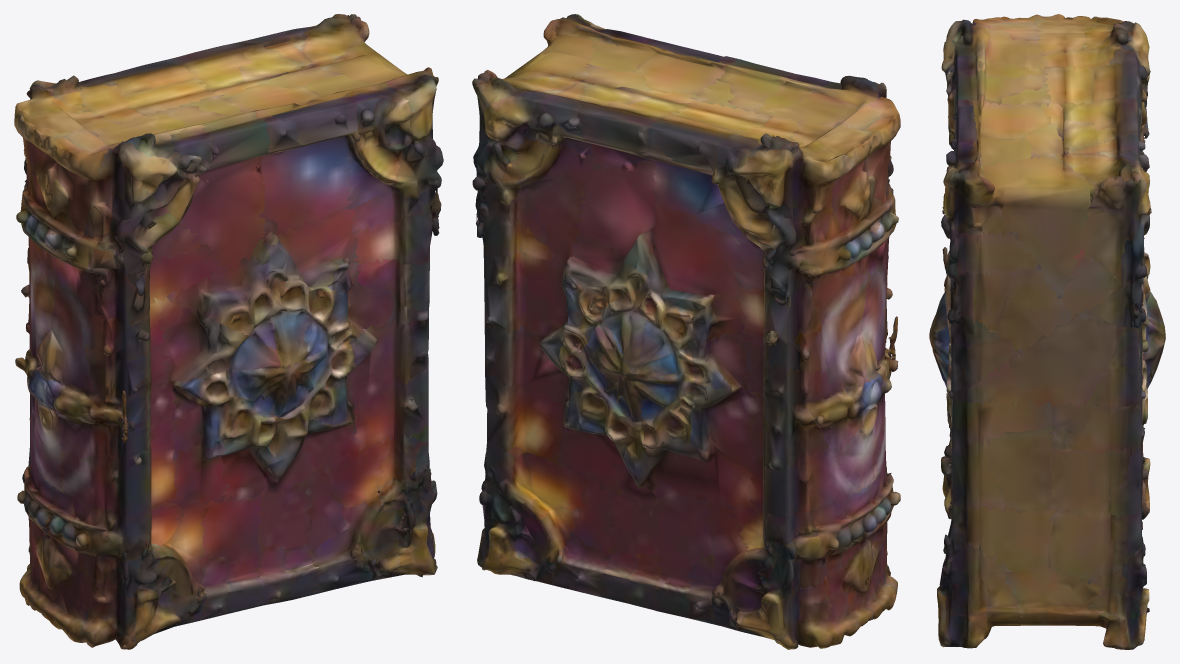
Rendered from enchanted-cosmos.glb.
3 views of the same model, side by side, from view 1: azimuth 30°, elevation 25°; view 2: azimuth 150°, elevation 25°; view 3: azimuth 270°, elevation 25° (orthographic). The views are drawn at different scales.
Bounding box in the file's own units: 1.49 × 2 × 0.87.
1 material, 1 textured.
